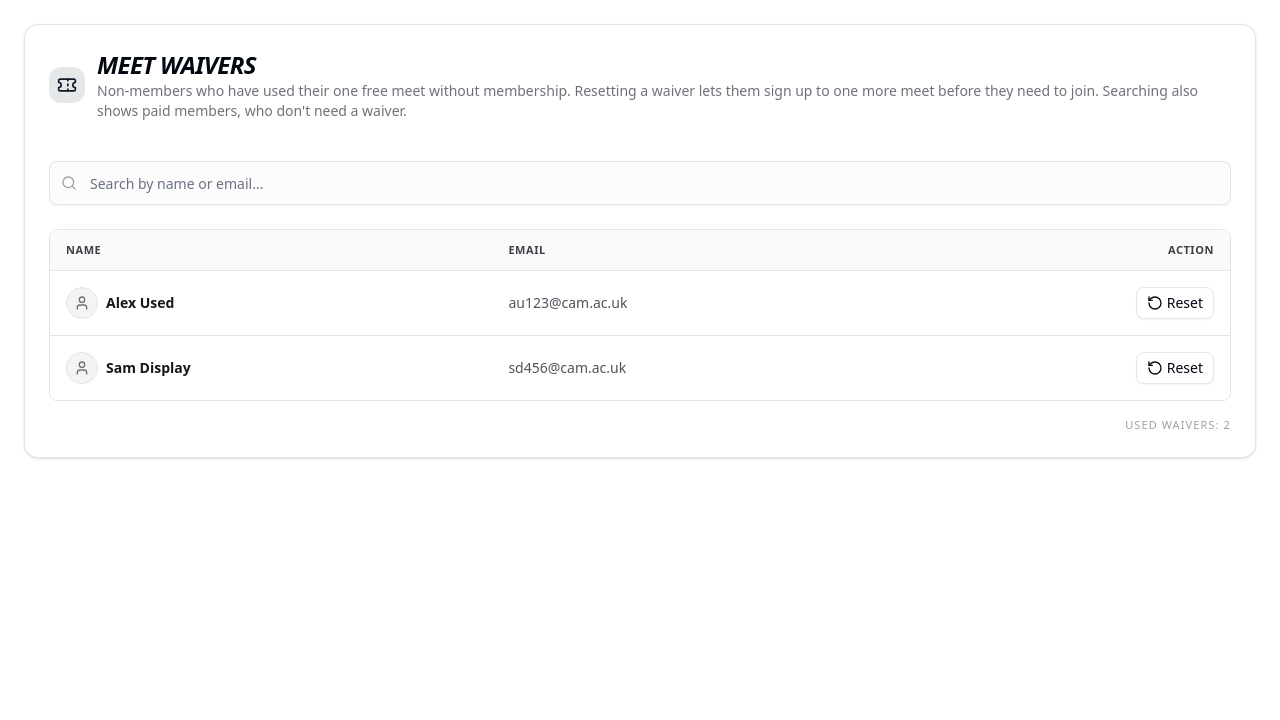
Waivers — resetting › shows the server error and keeps the user listed
Click the button "Reset" in the row of "Alex Used" at (1175, 303), box top-left (1136, 287), bottom-right (1214, 319)
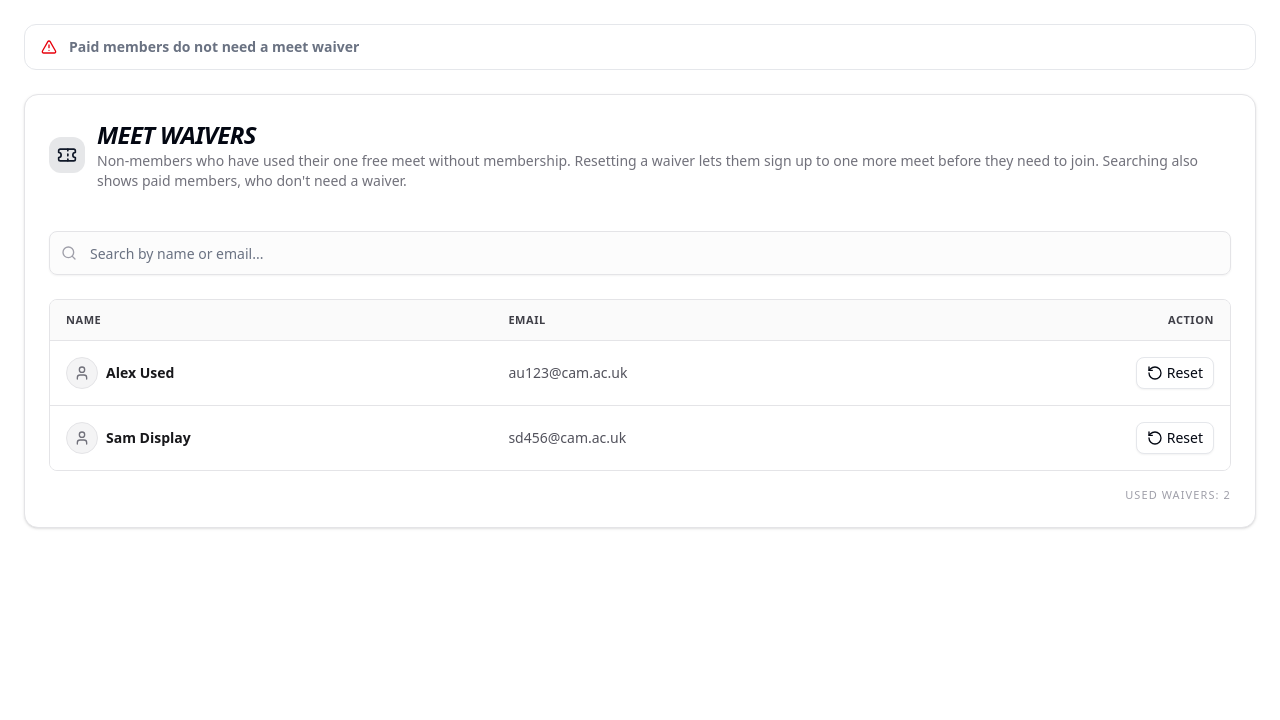
Check: the text "Alex Used" is shown, box top-left (106, 363), bottom-right (174, 383)
Check: the text "Paid members do not need a meet waiver" is shown, box top-left (69, 37), bottom-right (359, 56)
